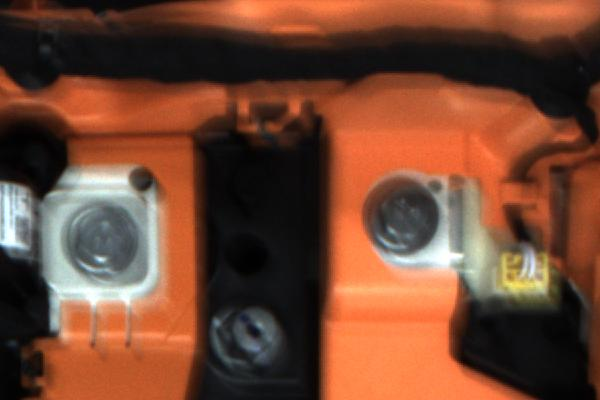nut_b: (353, 179, 439, 258), (60, 202, 145, 279)
